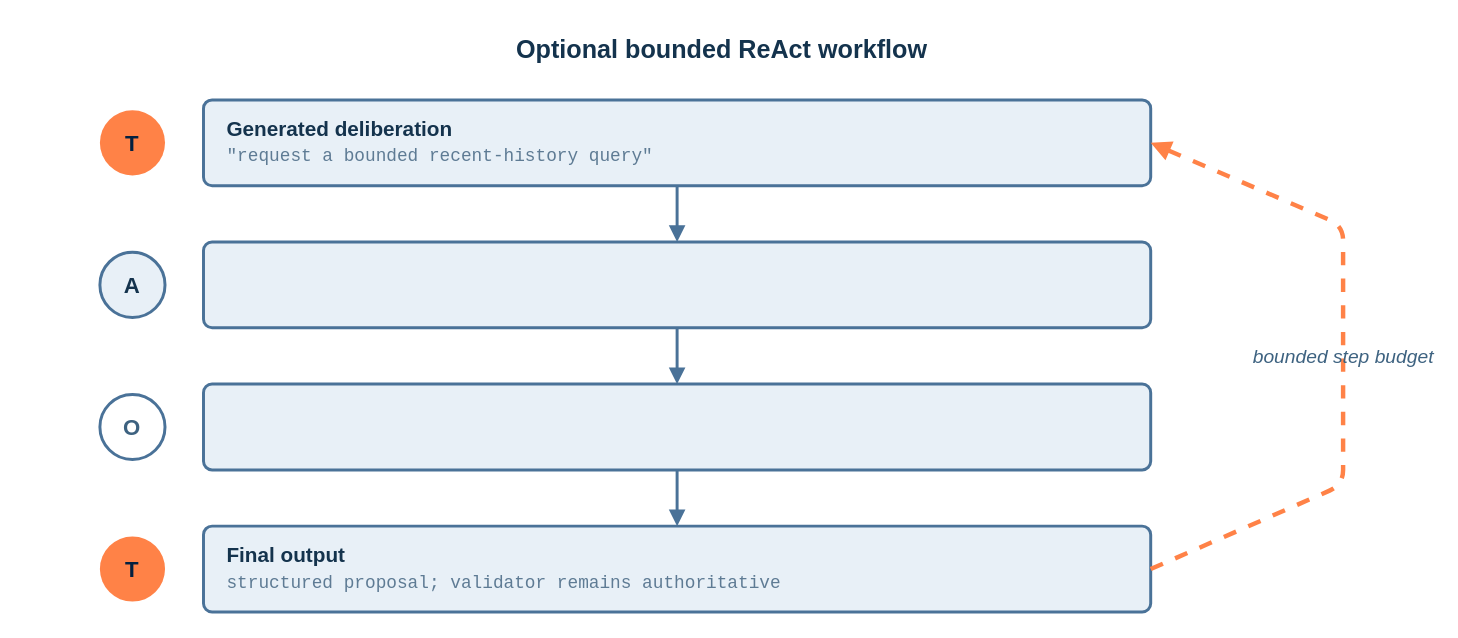
Some shapes in this 1458 by 638 pixel diagram are drawn without their labels. Each missing label, with the centre of its shape:
Action query_history("A2306", "smoke", "60s"): point 676,284
Observation identified values + units + timestamps: point 676,426
